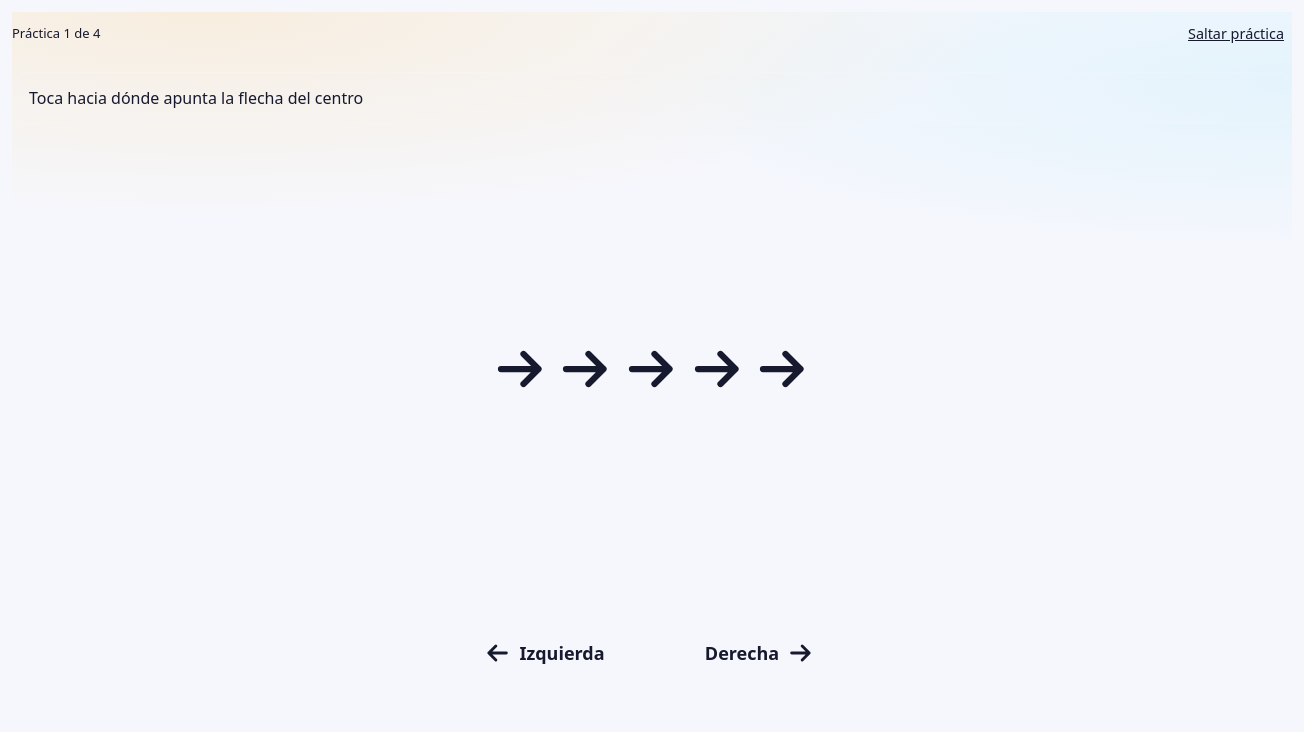
Test: the guide explains the center, then the trick
The width and height of the screenshot is (1304, 732).
Check: the text "Toca hacia dónde apunta la flecha del centro" is shown, box [12,72,1292,124]
Click the button "Derecha" at (760, 653), box [660,614,860,692]
Wait 700 ms
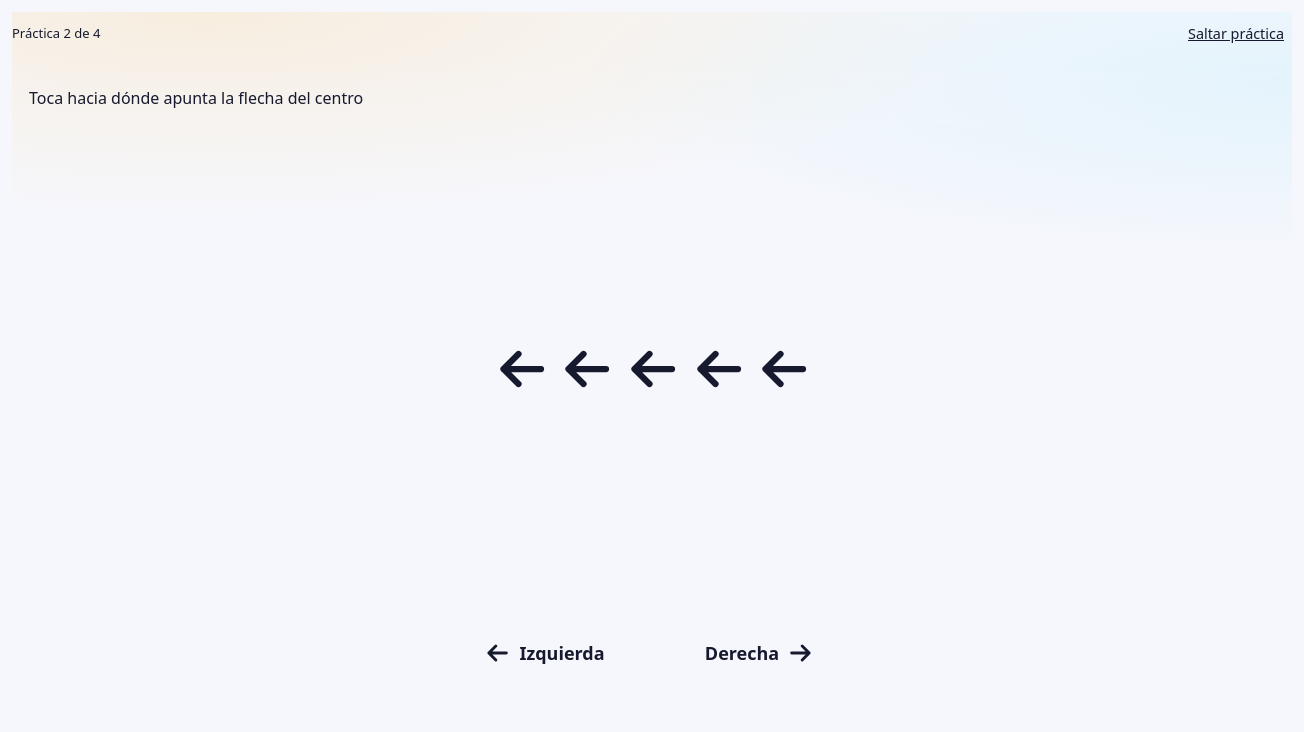
Click the button "Izquierda" at (544, 653), box [444,614,644,692]
Wait 700 ms
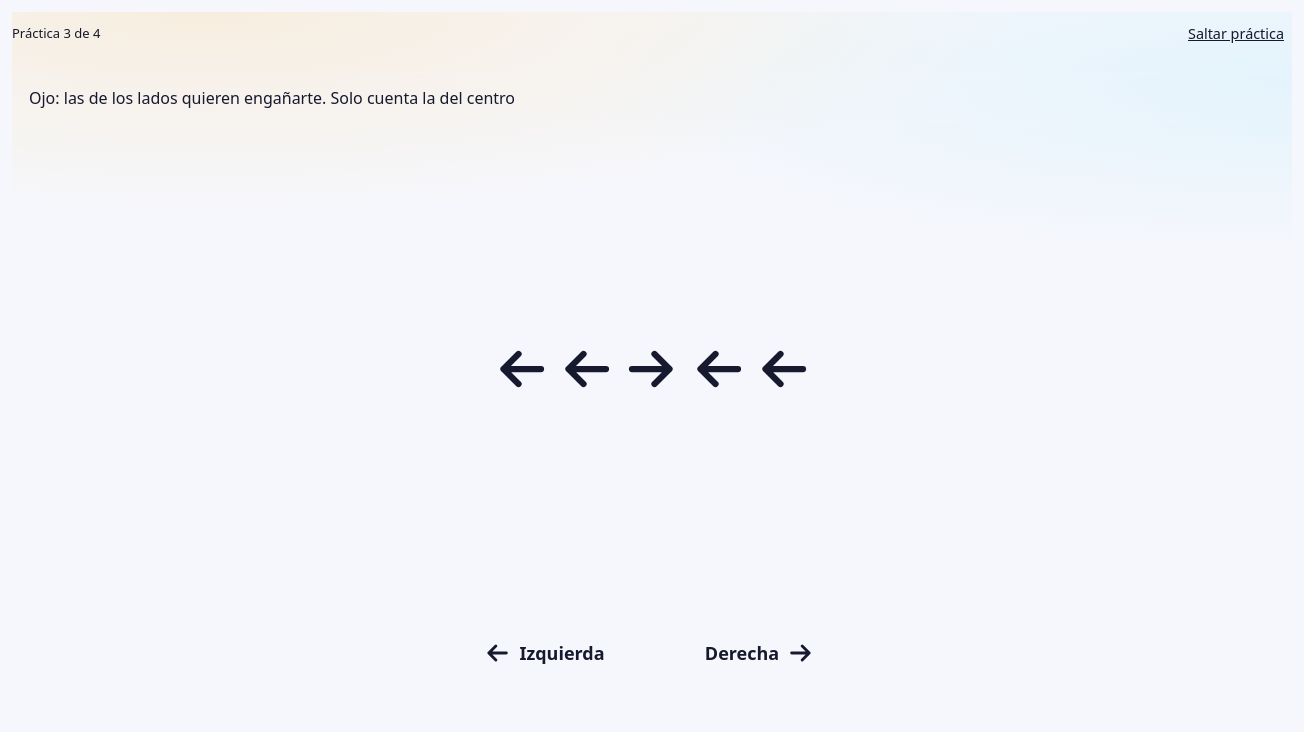
Check: the text "las de los lados quieren engañarte" is shown, box [29,87,515,109]
